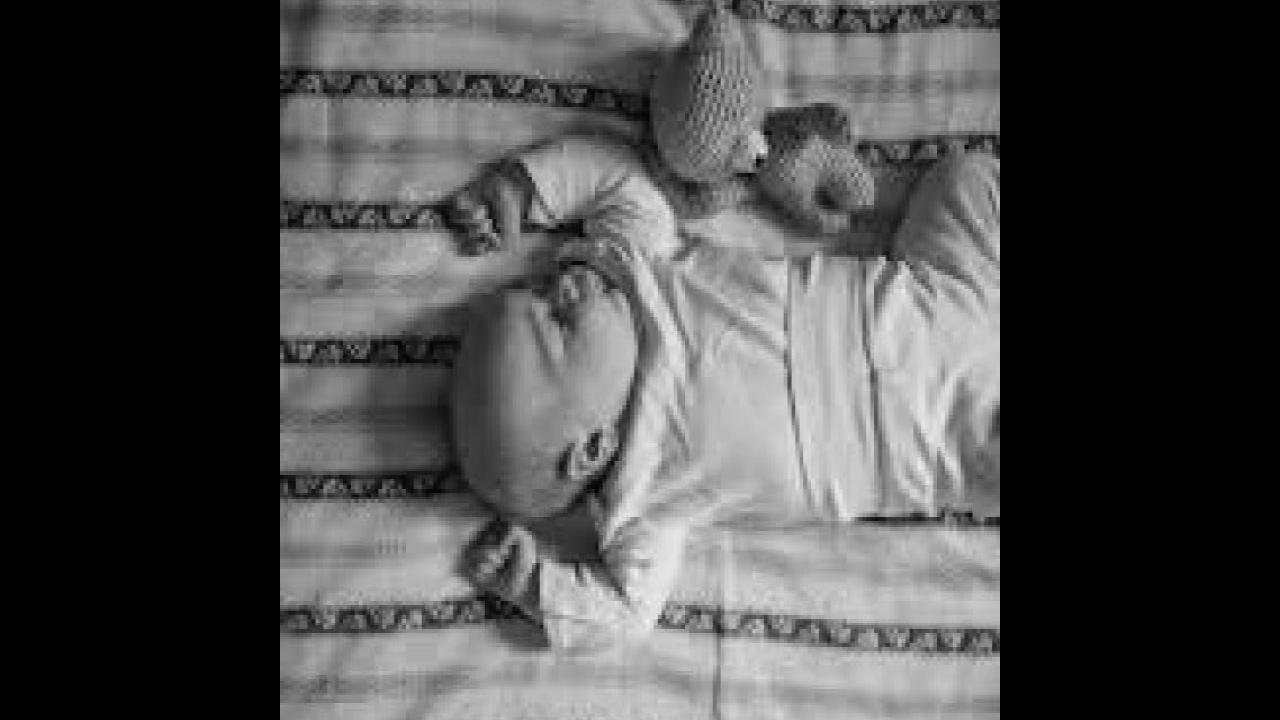hand: (460, 513, 542, 610), (444, 180, 524, 260)
